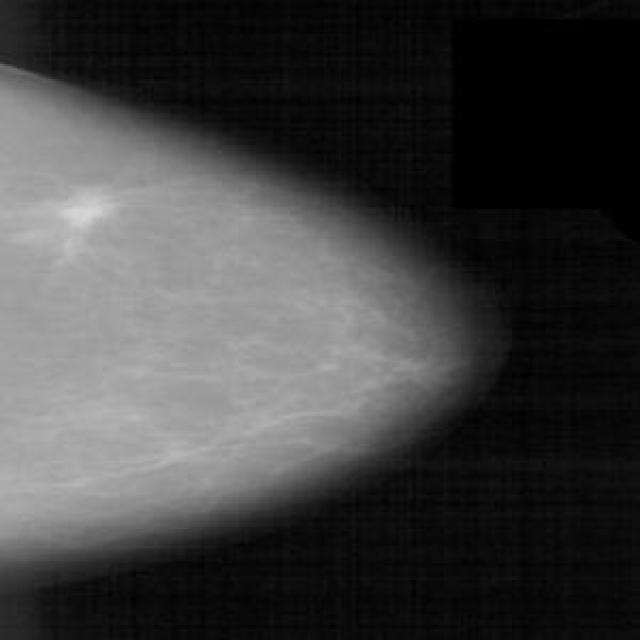tumor: (33, 165, 142, 266)
